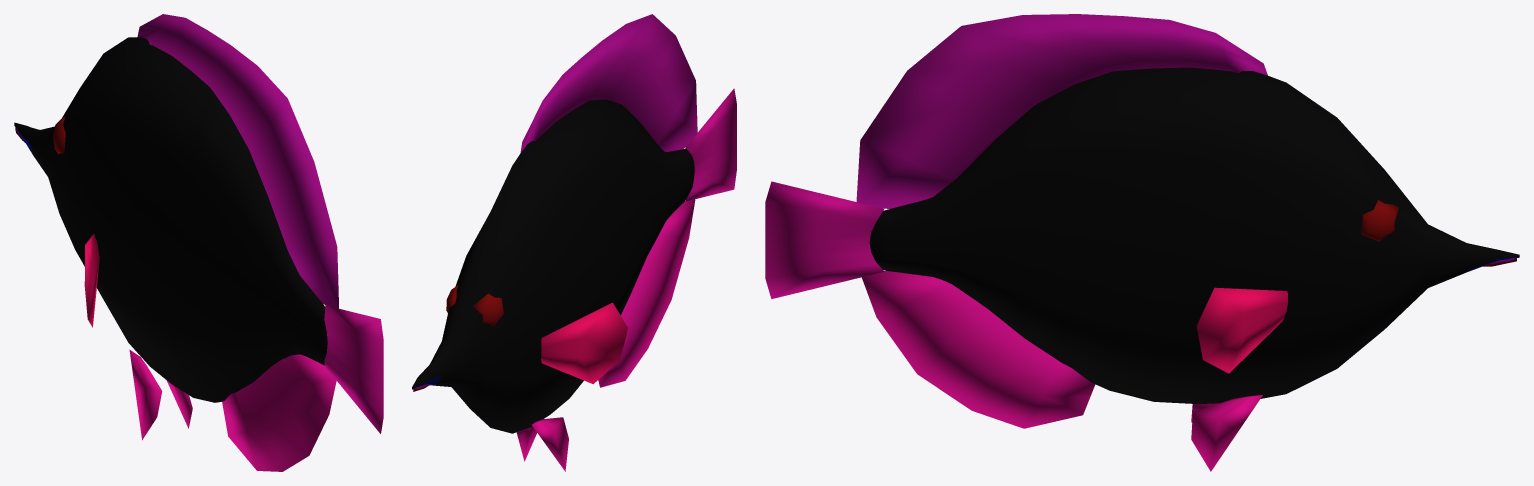
The model's file is butterflyfish_copperband_lo.glb.
3 renders of one model, left to right at view 1: azimuth 30°, elevation 25°; view 2: azimuth 150°, elevation 25°; view 3: azimuth 270°, elevation 25°, orthographic. The views are drawn at different scales.
Parts seen in each view (by area): view 1: butterflyfish_copperband_lo; view 2: butterflyfish_copperband_lo; view 3: butterflyfish_copperband_lo.
Part boxes in pixels (x1,y1,x2,y2): butterflyfish_copperband_lo: (14, 14, 383, 471); butterflyfish_copperband_lo: (412, 14, 736, 471); butterflyfish_copperband_lo: (765, 14, 1519, 471).
Size of the model in its own units: 0.0493 by 0.1176 by 0.18.
